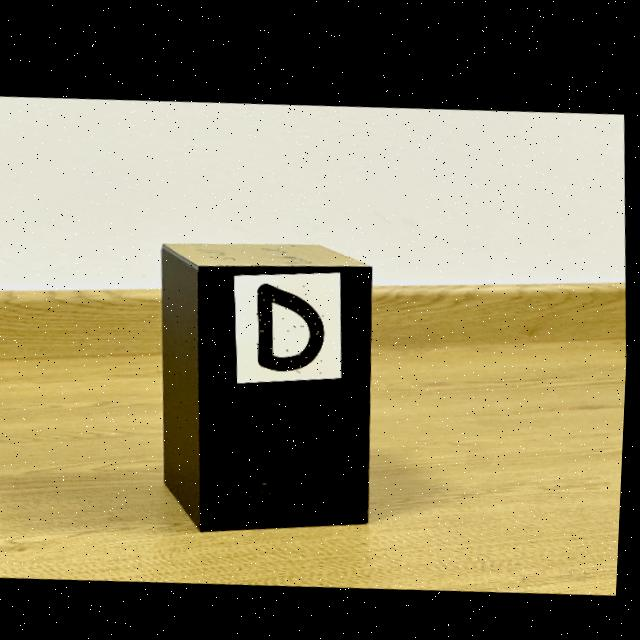D: (259, 280, 327, 367)
